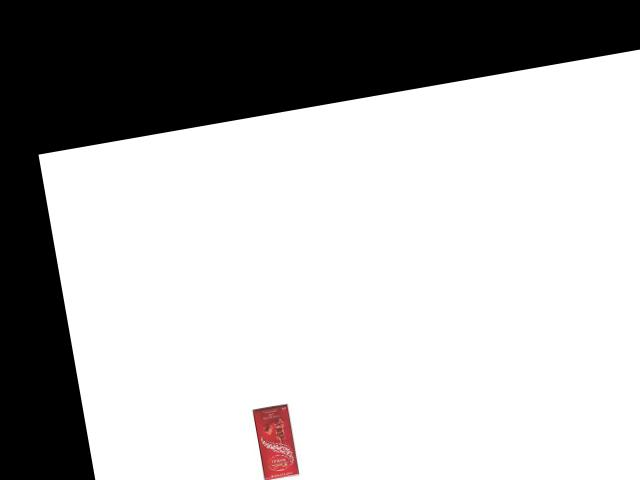chocolate: (250, 398, 302, 480)
